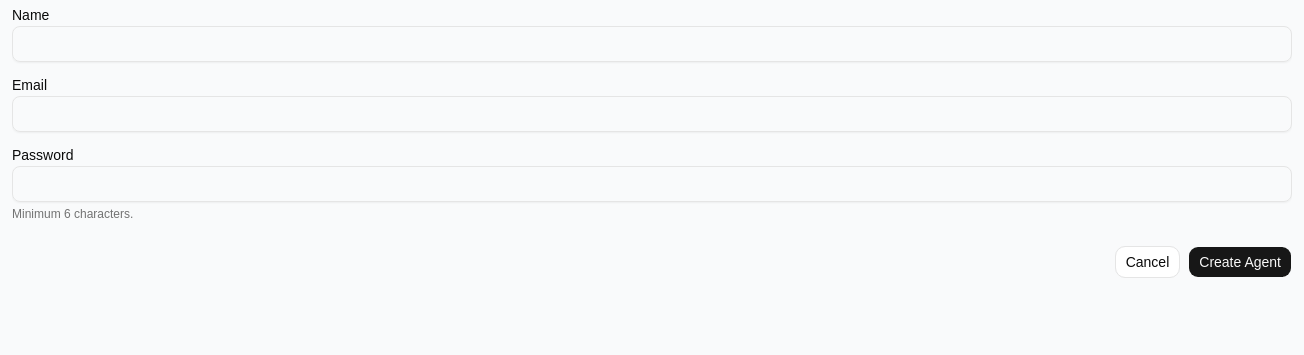
Test: CreateUserForm › validation › shows 'Name is required' and does not submit when form is empty
This screenshot has width=1304, height=355.
Step 1. Click the button "Create Agent" → (1240, 262), box [1188,246,1292,278]
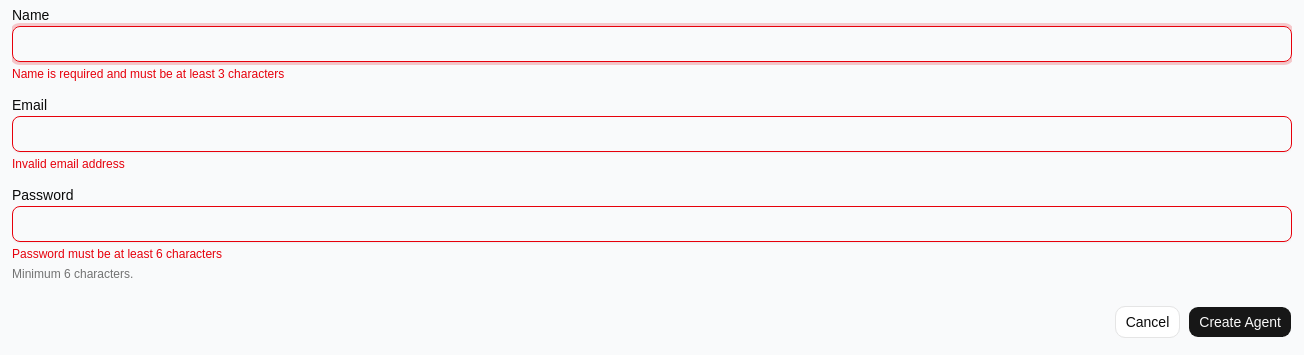
Now the text "Name is required and must be at least 3 characters" is shown, box [12,67,284,81]
